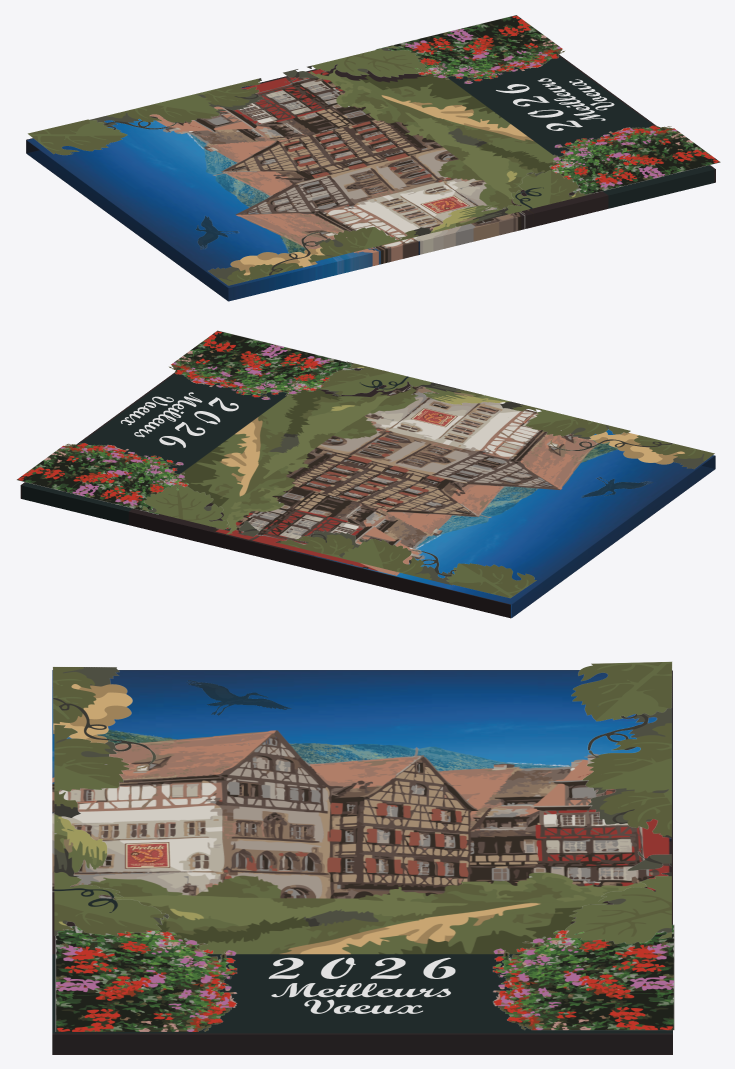
Rendered from carte.glb.
3 renders of one model, top to bottom at view 1: azimuth 30°, elevation 25°; view 2: azimuth 150°, elevation 25°; view 3: azimuth 270°, elevation 25°, orthographic. The views are drawn at different scales.
Visible parts, largest first — view 1: maisons-carte-vrai.001, geraniums-carte, vignes2-carte, feuille1G, feuille1D, titre-carte, cigogne-carte; view 2: maisons-carte-vrai.001, geraniums-carte, vignes2-carte, feuille1G, feuille1D, titre-carte, cigogne-carte; view 3: maisons-carte-vrai.001, geraniums-carte, vignes2-carte, feuille1G, feuille1D, titre-carte, cigogne-carte.
Part boxes in pixels (<box>): maisons-carte-vrai.001: <box>26,54,715,301</box>; geraniums-carte: <box>375,15,720,194</box>; vignes2-carte: <box>89,45,592,262</box>; feuille1G: <box>207,231,337,285</box>; feuille1D: <box>27,119,127,155</box>; titre-carte: <box>496,78,614,130</box>; cigogne-carte: <box>196,216,239,249</box>; maisons-carte-vrai.001: <box>20,368,715,618</box>; geraniums-carte: <box>16,330,355,514</box>; vignes2-carte: <box>142,361,630,585</box>; feuille1G: <box>550,432,714,468</box>; feuille1D: <box>446,563,536,598</box>; titre-carte: <box>121,392,238,447</box>; cigogne-carte: <box>581,477,652,497</box>; maisons-carte-vrai.001: <box>52,670,672,1054</box>; geraniums-carte: <box>55,924,674,1031</box>; vignes2-carte: <box>54,708,671,944</box>; feuille1G: <box>52,666,155,769</box>; feuille1D: <box>571,661,672,721</box>; titre-carte: <box>268,957,455,1013</box>; cigogne-carte: <box>187,680,291,715</box>.
Bounding box in the file's own units: 1.02 × 0.0379 × 0.7987.
7 materials, 7 textured.
